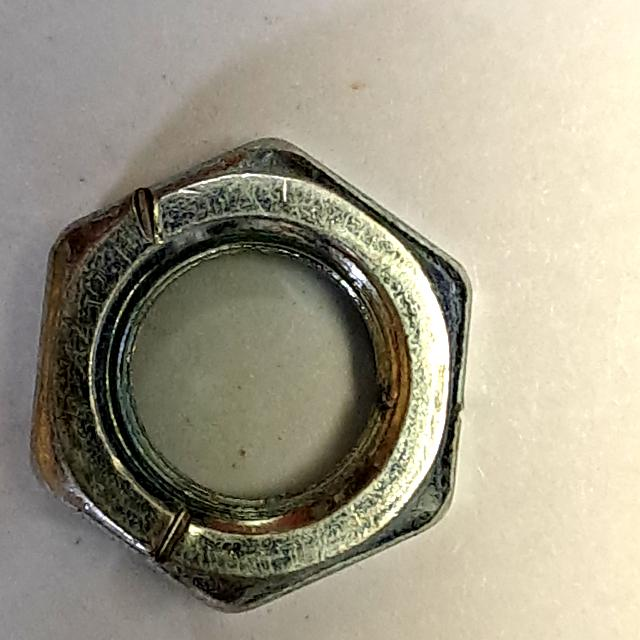Scratches: (10, 117, 485, 632)
